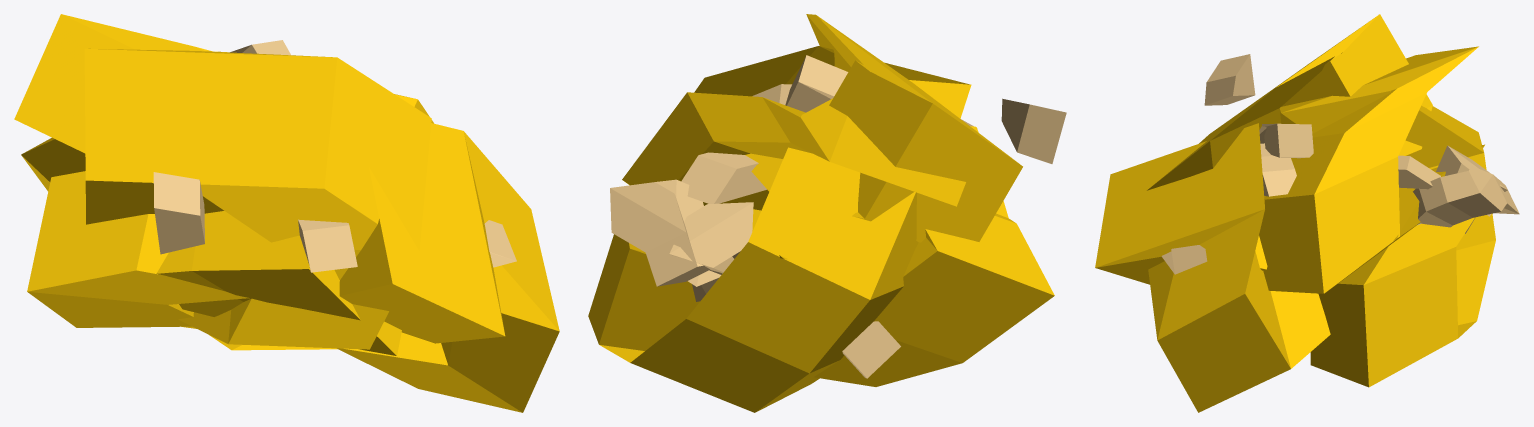
Rendered from rock.glb.
3 renders of one model, left to right at view 1: azimuth 30°, elevation 25°; view 2: azimuth 150°, elevation 25°; view 3: azimuth 270°, elevation 25°, orthographic. The views are drawn at different scales.
Parts seen in each view (by area): view 1: group606514710, group1489553741, group1574990167, group1802652316, group805120852, group1375163974, group1594434708, group755484215, group2031295799; view 2: group805120852, group606514710, group1574990167, group2031295799, group1489553741, group1594434708, group1375163974, group1628050576, group663119374; view 3: group805120852, group1489553741, group606514710, group2031295799, group1628050576, group1375163974, group1594434708, group755484215.
Boxes of the visible parts, x1,y1,x2,y2 form: group606514710: (84, 48, 431, 349); group1489553741: (337, 123, 559, 412); group1574990167: (27, 171, 249, 328); group1802652316: (156, 211, 401, 355); group805120852: (14, 14, 433, 350); group1375163974: (153, 172, 204, 254); group1594434708: (298, 219, 357, 272); group755484215: (484, 220, 516, 267); group2031295799: (230, 40, 290, 55); group805120852: (588, 92, 965, 412); group606514710: (745, 14, 1022, 242); group1574990167: (814, 213, 1054, 386); group2031295799: (610, 179, 753, 301); group1489553741: (694, 46, 971, 118); group1594434708: (681, 119, 973, 203); group1375163974: (1001, 98, 1066, 163); group1628050576: (752, 55, 848, 112); group663119374: (842, 321, 900, 378); group805120852: (1259, 46, 1495, 387); group1489553741: (1095, 123, 1330, 412); group606514710: (1147, 14, 1432, 190); group2031295799: (1413, 145, 1519, 233); group1628050576: (1259, 123, 1313, 196); group1375163974: (1204, 54, 1255, 105); group1594434708: (1398, 155, 1440, 189); group755484215: (1161, 245, 1207, 274).
Size of the model in its own units: 0.2311 by 0.1751 by 0.2432.
